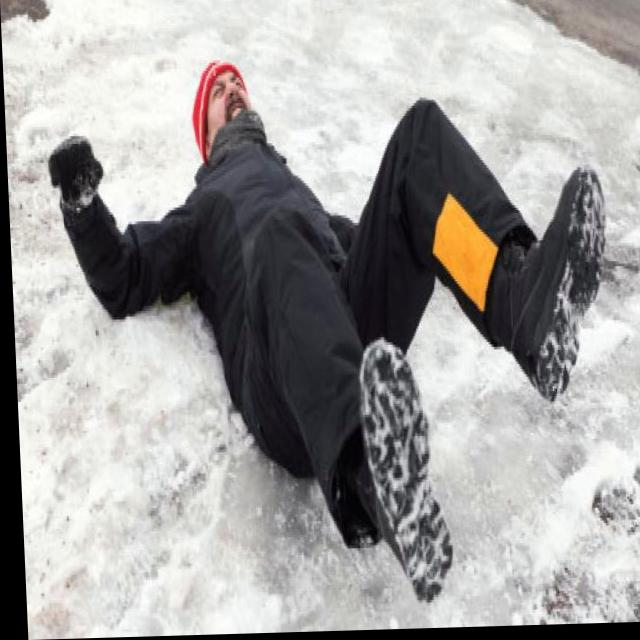fall: (43, 48, 616, 611)
